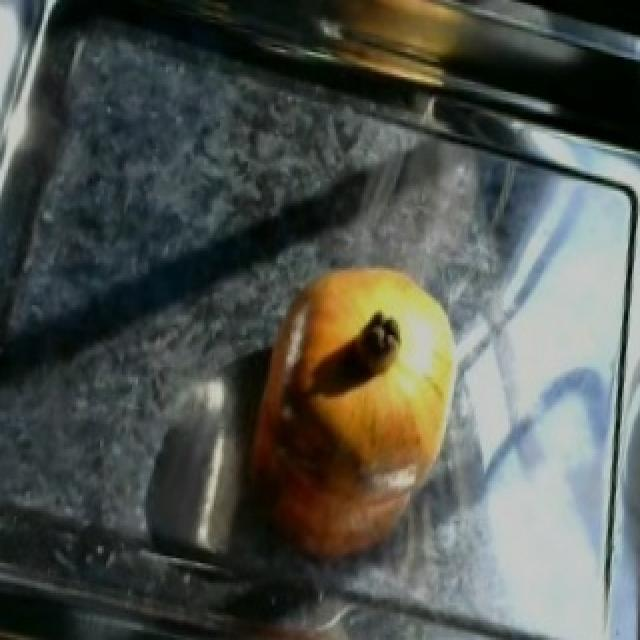fruit: (232, 231, 486, 488)
